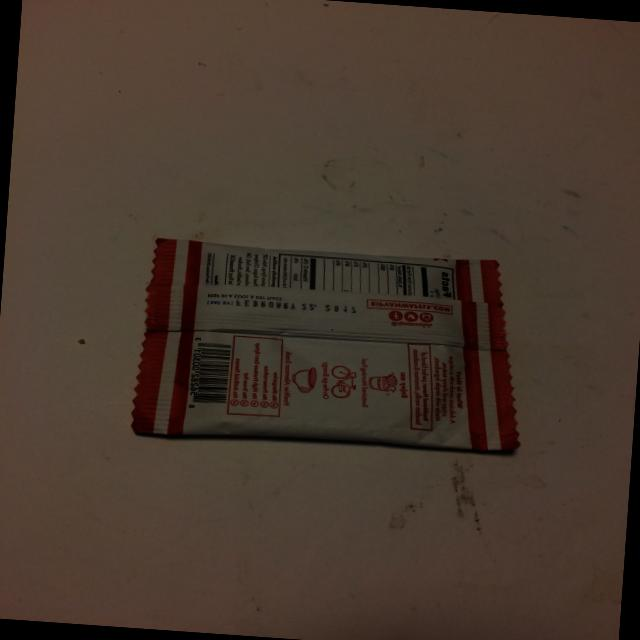Plastic: (96, 218, 544, 492)
